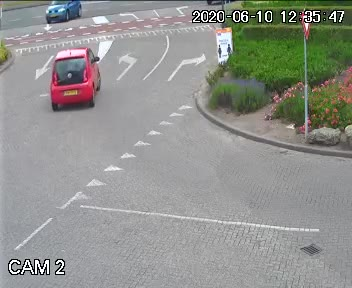car: (43, 45, 105, 116), (42, 0, 85, 28)
